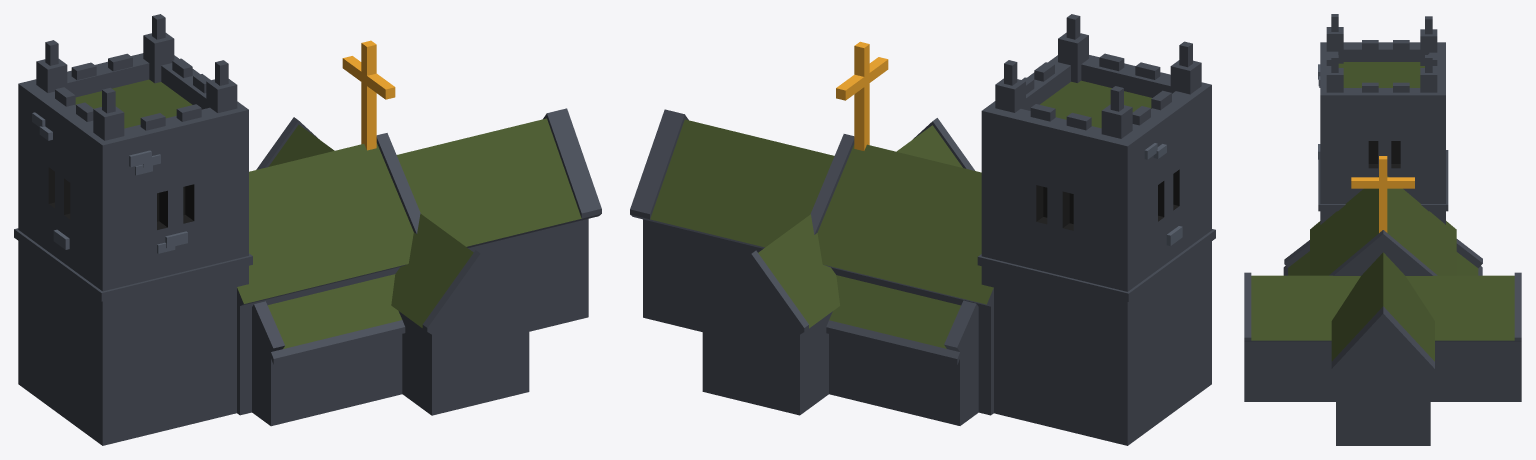
File: Church.fbx
3 views of the same model, side by side, from view 1: azimuth 30°, elevation 25°; view 2: azimuth 150°, elevation 25°; view 3: azimuth 270°, elevation 25° (orthographic). The views are drawn at different scales.
Parts seen in each view (by area): view 1: Church; view 2: Church; view 3: Church.
Boxes of the visible parts, left/top/right/bottom form: Church: left=14, top=14, right=601, bottom=445; Church: left=630, top=14, right=1215, bottom=445; Church: left=1244, top=14, right=1521, bottom=445.
Bounding box in the file's own units: 5208 × 3352 × 3294.
